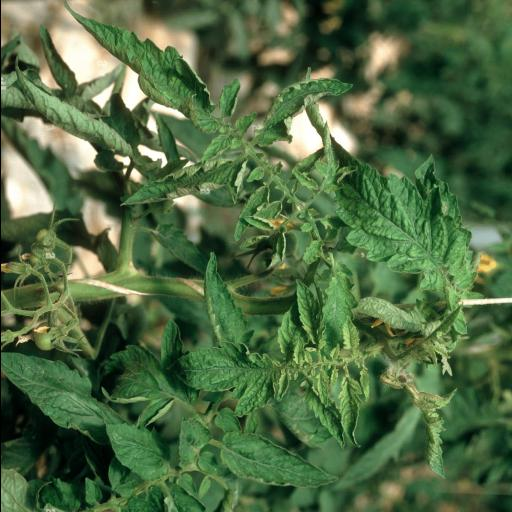disease_tomato: (304, 99, 474, 294), (64, 0, 220, 134), (170, 338, 290, 418), (251, 74, 358, 148), (218, 428, 344, 490), (116, 153, 248, 209), (202, 250, 254, 350), (410, 386, 458, 480), (316, 271, 360, 361), (334, 376, 366, 450), (294, 277, 324, 345), (338, 316, 360, 352), (316, 368, 332, 408), (290, 336, 306, 368)
